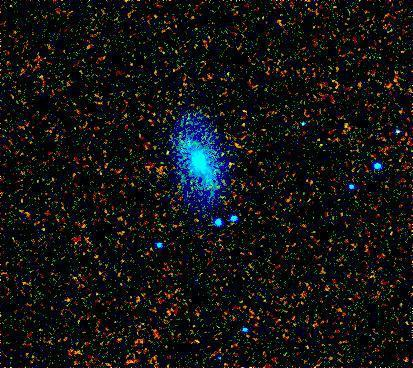star: (333, 110, 363, 140)
